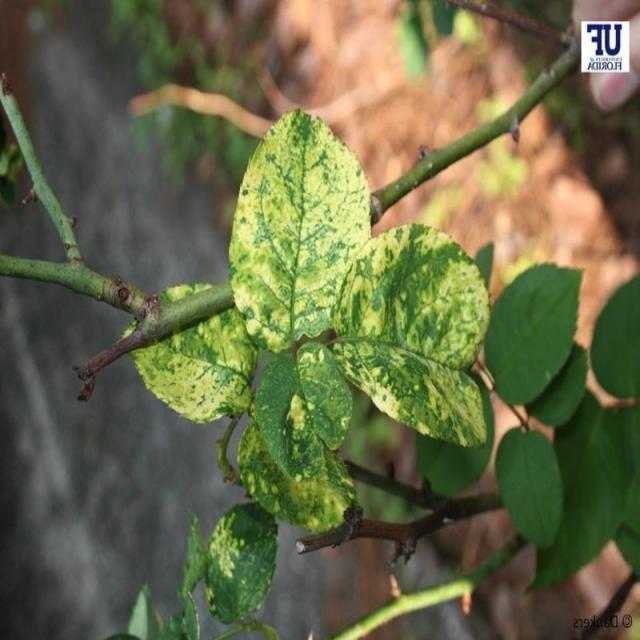Healthy Leaf: (489, 255, 594, 410), (490, 424, 562, 564)
Mosaic Virus: (338, 225, 496, 434), (230, 109, 370, 323), (133, 318, 255, 424), (246, 383, 330, 517), (200, 506, 276, 630)
